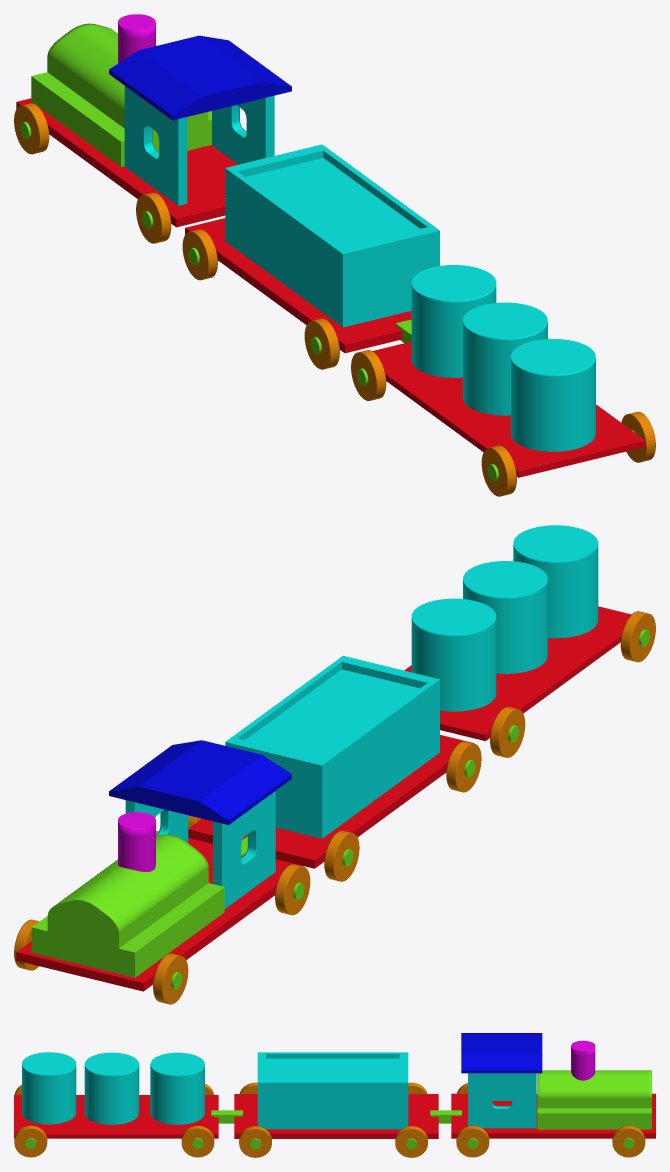
The model's file is WoodenTrain.fbx.
3 renders of one model, top to bottom at view 1: azimuth 30°, elevation 25°; view 2: azimuth 150°, elevation 25°; view 3: azimuth 270°, elevation 25°, orthographic. The views are drawn at different scales.
Parts seen in each view (by area): view 1: Cube.008, Cylinder.001, Cube.002, Cube.007, Cylinder.007, Cube.010, Cube, Cube.023, Cube.021, Cube.009, Cube.026, Cube.001 (+5 smaller); view 2: Cube.008, Cylinder.001, Cube.002, Cube.007, Cylinder.007, Cube.023, Cube, Cube.010, Cube.009, Cube.024, Cube.001, Cube.026 (+4 smaller); view 3: Cube.008, Cylinder.001, Cube.002, Cylinder.007, Cube.021, Cube.007, Cube.023, Cube.010, Cube.009, Cube.015, Cube.005, Cube.018 (+5 smaller).
Part boxes in pixels (left/top/right/bottom): Cube.008: left=225, top=144, right=439, bottom=327; Cylinder.001: left=411, top=265, right=595, bottom=451; Cube.002: left=31, top=23, right=211, bottom=166; Cube.007: left=109, top=35, right=291, bottom=120; Cylinder.007: left=372, top=341, right=645, bottom=477; Cube.010: left=16, top=98, right=237, bottom=227; Cube: left=124, top=86, right=187, bottom=205; Cube.023: left=185, top=218, right=411, bottom=353; Cube.021: left=212, top=95, right=274, bottom=164; Cube.009: left=118, top=14, right=155, bottom=63; Cube.026: left=182, top=229, right=217, bottom=280; Cube.001: left=136, top=192, right=171, bottom=243; Cube.008: left=225, top=655, right=439, bottom=838; Cylinder.001: left=411, top=525, right=598, bottom=711; Cube.002: left=31, top=834, right=224, bottom=977; Cube.007: left=109, top=740, right=291, bottom=824; Cylinder.007: left=404, top=606, right=631, bottom=740; Cube.023: left=188, top=735, right=474, bottom=868; Cube: left=213, top=791, right=275, bottom=908; Cube.010: left=16, top=838, right=303, bottom=991; Cube.009: left=118, top=812, right=155, bottom=871; Cube.024: left=446, top=741, right=481, bottom=792; Cube.001: left=275, top=864, right=310, bottom=915; Cube.026: left=324, top=830, right=359, bottom=881; Cube.008: left=257, top=1052, right=408, bottom=1129; Cylinder.001: left=22, top=1052, right=204, bottom=1124; Cube.002: left=537, top=1070, right=651, bottom=1129; Cylinder.007: left=14, top=1095, right=218, bottom=1138; Cube.021: left=468, top=1073, right=536, bottom=1128; Cube.007: left=461, top=1033, right=542, bottom=1073; Cube.023: left=234, top=1094, right=438, bottom=1138; Cube.010: left=451, top=1093, right=655, bottom=1138; Cube.009: left=571, top=1040, right=595, bottom=1080; Cube.015: left=181, top=1125, right=214, bottom=1157; Cube.005: left=612, top=1125, right=645, bottom=1157; Cube.018: left=14, top=1125, right=47, bottom=1157.
Bounding box in the file's own units: 725 × 635 × 4061.
